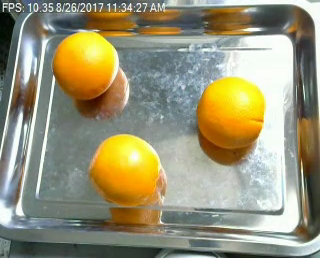Orange: (89, 133, 162, 206), (195, 77, 266, 147), (52, 30, 120, 99)
